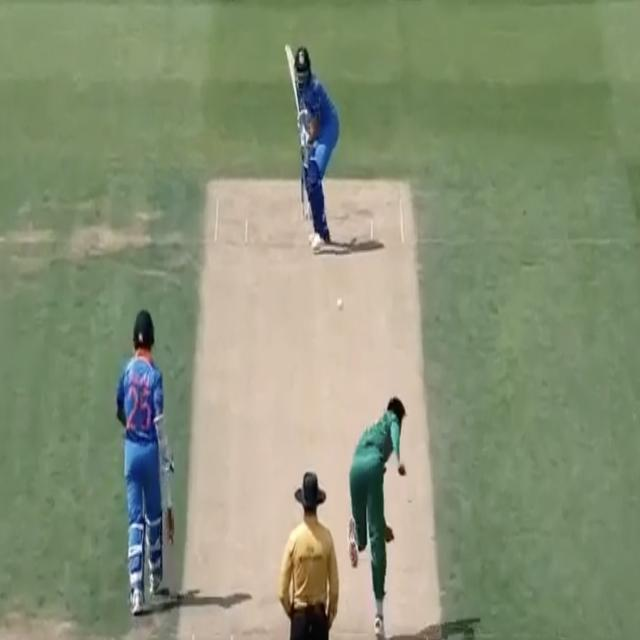0: (329, 292, 353, 326)
Batsman: (282, 35, 336, 272)
